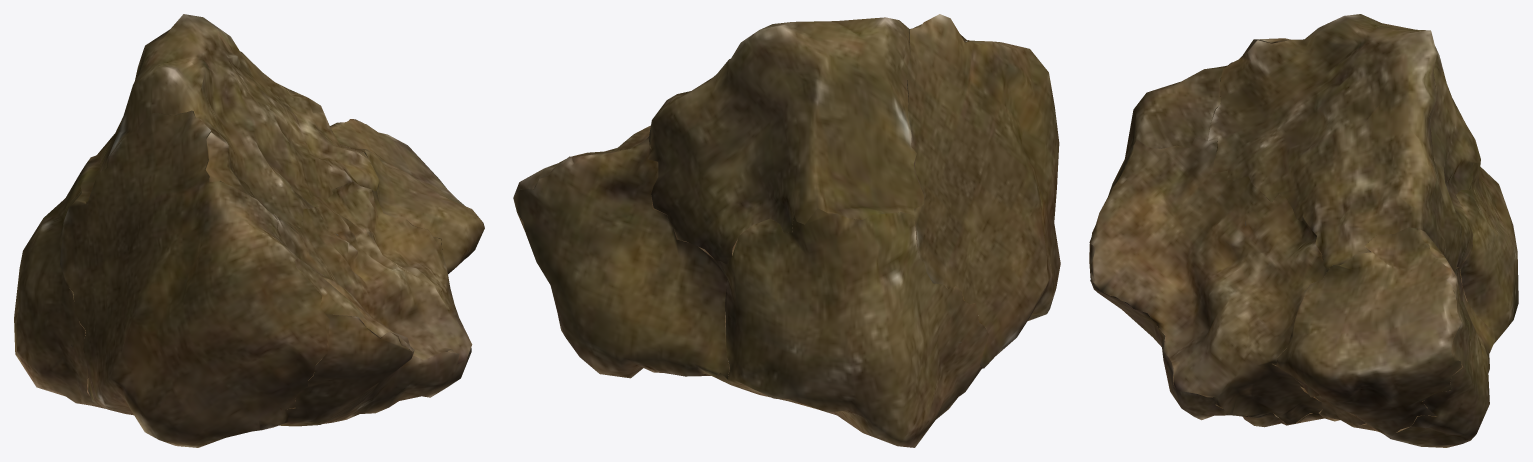
The model's file is rock_moss_set_01_3.glb.
3 views of the same model, side by side, from view 1: azimuth 30°, elevation 25°; view 2: azimuth 150°, elevation 25°; view 3: azimuth 270°, elevation 25° (orthographic). The views are drawn at different scales.
Visible parts, largest first — view 1: rock_moss_set_01_rock04; view 2: rock_moss_set_01_rock04; view 3: rock_moss_set_01_rock04.
Part boxes in pixels (bbox=[...]): rock_moss_set_01_rock04: bbox=[14, 14, 484, 447]; rock_moss_set_01_rock04: bbox=[513, 14, 1060, 447]; rock_moss_set_01_rock04: bbox=[1089, 14, 1518, 447].
Size of the model in its own units: 2.13 by 1.77 by 1.96.
1 material, 1 textured.
